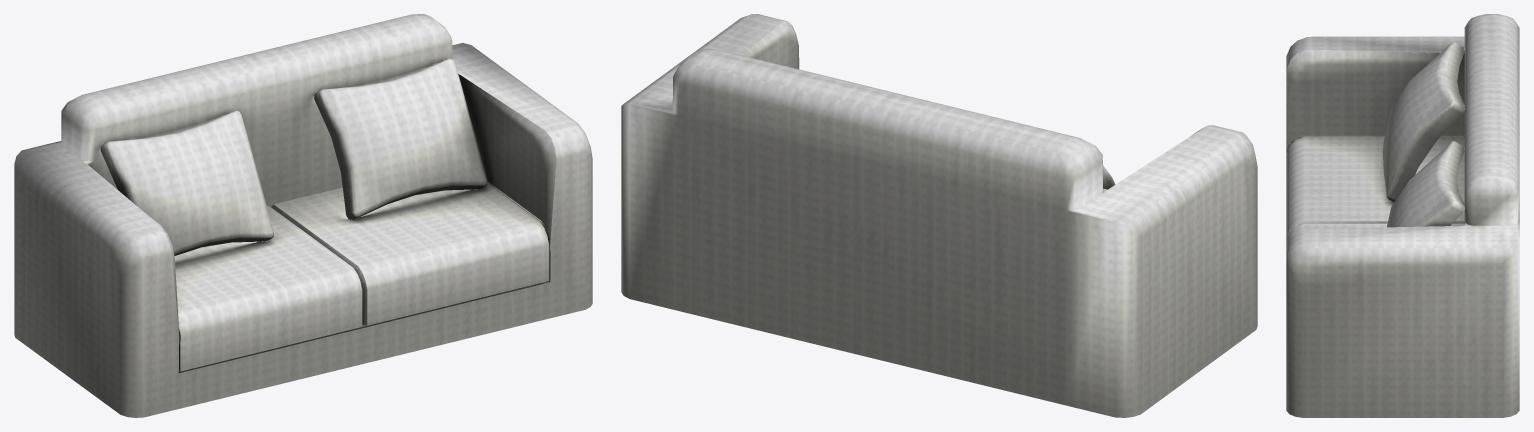
3 renders of one model, left to right at view 1: azimuth 30°, elevation 25°; view 2: azimuth 150°, elevation 25°; view 3: azimuth 270°, elevation 25°, orthographic. The views are drawn at different scales.
Parts seen in each view (by area): view 1: shafa8; view 2: shafa8; view 3: shafa8.
Boxes of the visible parts, x1=… form: shafa8: x1=14, y1=14, x2=592, y2=417; shafa8: x1=621, y1=14, x2=1257, y2=417; shafa8: x1=1286, y1=14, x2=1519, y2=417.
Size of the model in its own units: 200 by 90 by 91.99.
1 material, 1 textured.
